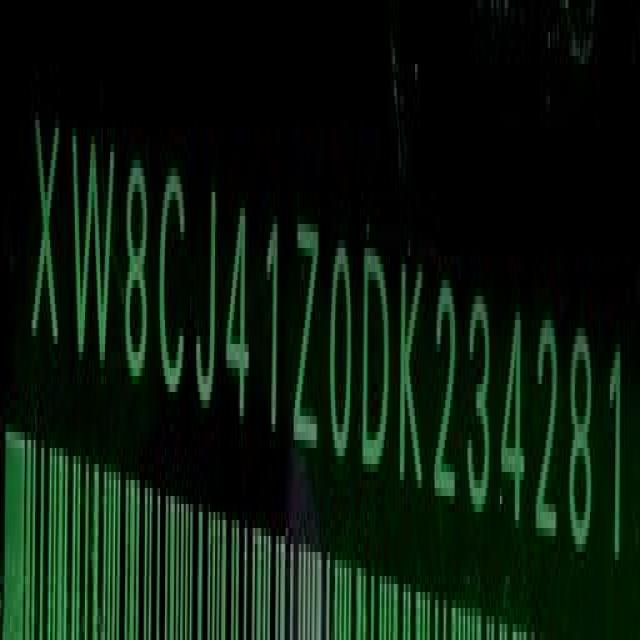0: (360, 234, 390, 492), (328, 243, 354, 465)
1: (260, 223, 285, 457), (605, 350, 623, 566)
2: (432, 278, 458, 512), (536, 323, 558, 542)
3: (466, 288, 490, 524)
4: (225, 198, 251, 432), (499, 311, 527, 528)
8: (121, 157, 150, 388), (570, 323, 592, 557)
C: (155, 151, 188, 418)
J: (192, 186, 220, 424)
K: (396, 246, 428, 501)
W: (67, 113, 116, 385)
X: (31, 98, 64, 370)
Z: (290, 220, 322, 448)
